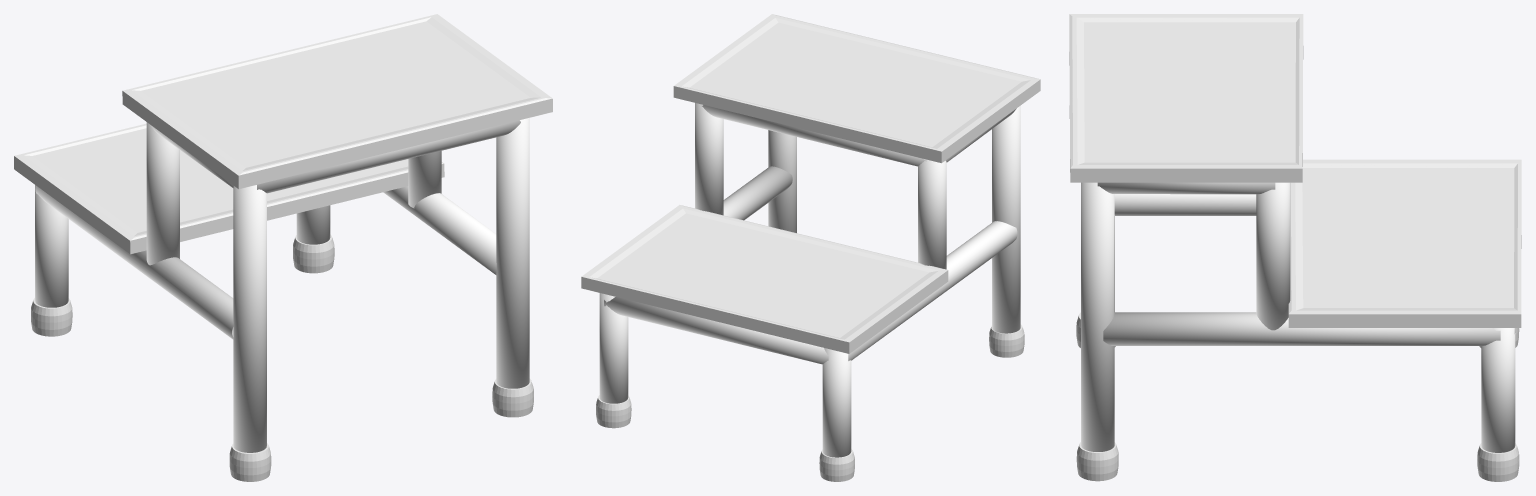
The model's file is footstool.glb.
3 views of the same model, side by side, from view 1: azimuth 30°, elevation 25°; view 2: azimuth 150°, elevation 25°; view 3: azimuth 270°, elevation 25° (orthographic). The views are drawn at different scales.
Visible parts, largest first — view 1: Circle.012, Plane.002, Plane.003, Plane.001, Circle.001; view 2: Circle.012, Plane.001, Plane.002, Plane.003, Circle.001; view 3: Circle.012, Plane.002, Plane.001, Plane.003, Circle.001.
Part boxes in pixels (x1,y1,x2,y2): Circle.012: (35,118,529,452); Plane.002: (141,21,530,167); Plane.003: (14,14,552,254); Plane.001: (33,128,408,232); Circle.001: (31,234,533,481); Circle.012: (599,103,1020,457); Plane.001: (597,213,929,337); Plane.002: (689,22,1021,147); Plane.003: (581,14,1040,353); Circle.001: (596,324,1024,481); Circle.012: (1081,182,1515,452); Plane.002: (1084,22,1295,162); Plane.001: (1302,168,1514,307); Plane.003: (1069,14,1521,327); Circle.001: (1076,312,1519,481).
Bounding box in the file's own units: 10.84 × 10.41 × 13.39.
4 materials, 1 textured.
